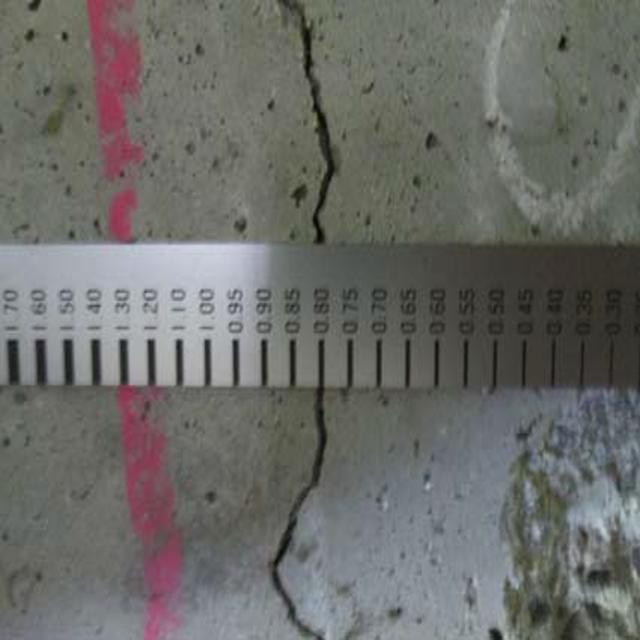crack: (271, 10, 370, 244), (263, 397, 344, 640)
